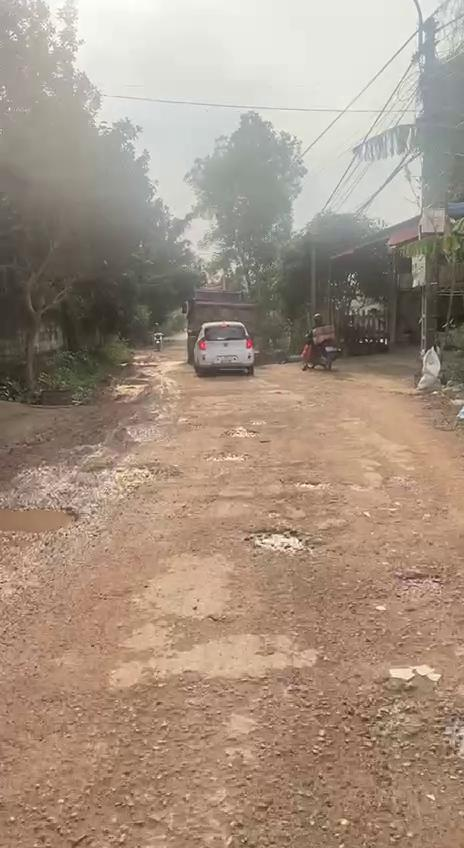pothole: (0, 494, 86, 542), (390, 565, 464, 611), (244, 521, 318, 559)
